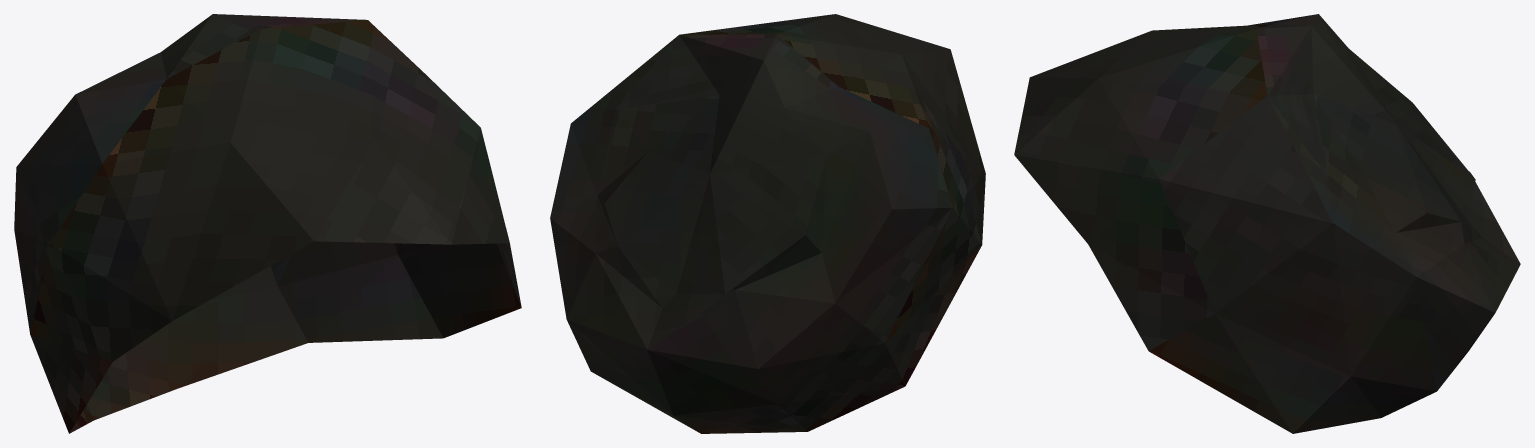
Rendered from ewm_t2kifighter_hat.glb.
3 renders of one model, left to right at view 1: azimuth 30°, elevation 25°; view 2: azimuth 150°, elevation 25°; view 3: azimuth 270°, elevation 25°, orthographic. The views are drawn at different scales.
Parts seen in each view (by area): view 1: ewm_t2kifighter_hat; view 2: ewm_t2kifighter_hat; view 3: ewm_t2kifighter_hat.
Boxes of the visible parts, x1,y1,x2,y2 form: ewm_t2kifighter_hat: (14,14,521,433); ewm_t2kifighter_hat: (550,14,985,433); ewm_t2kifighter_hat: (1014,14,1520,433).
Bounding box in the file's own units: 0.03 × 0.029 × 0.0366.
1 material, 1 textured.
